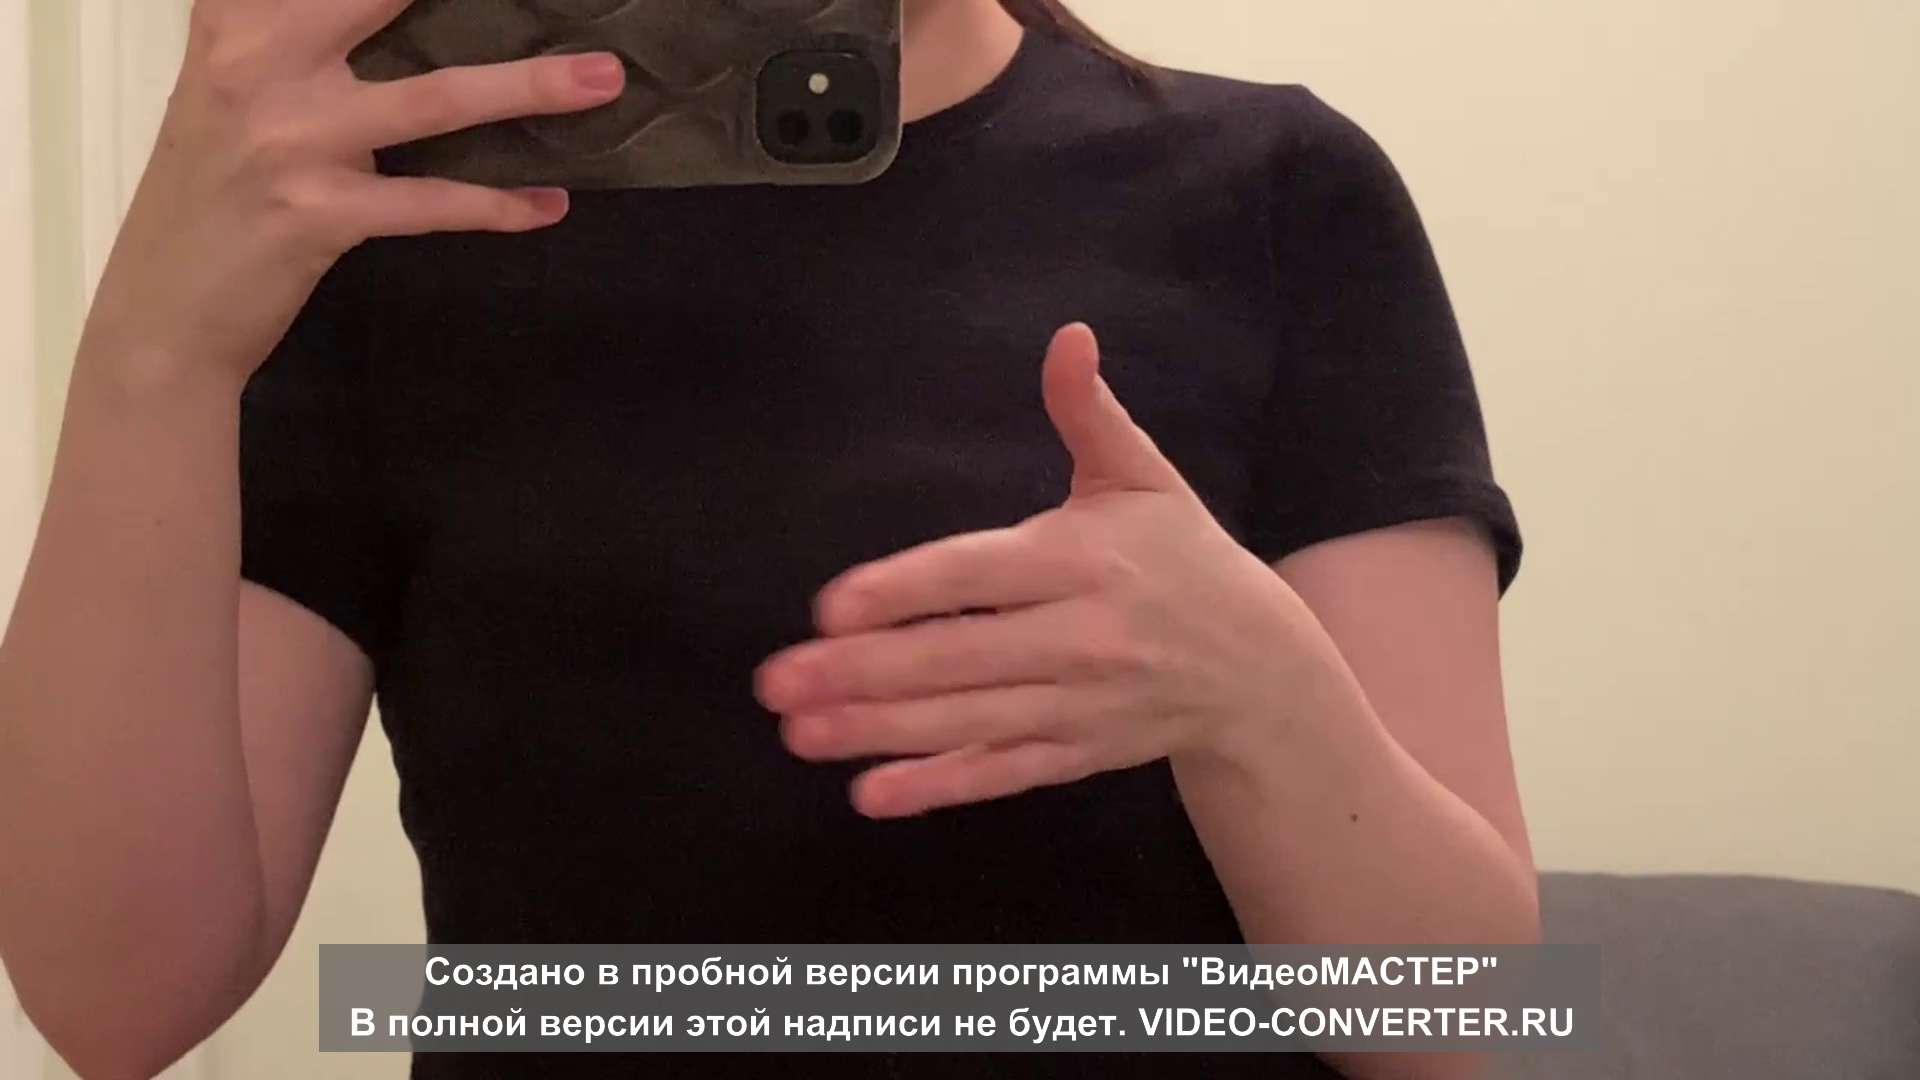Кисть: (756, 326, 1209, 822)
